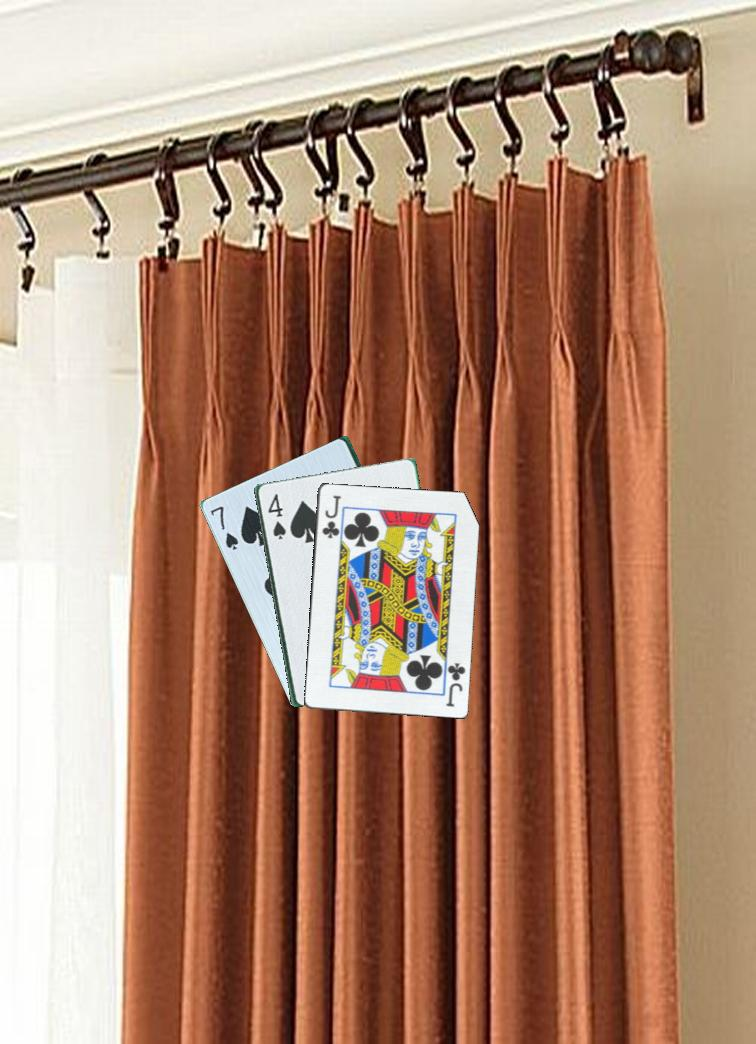4s: (264, 490, 288, 542)
7s: (206, 502, 241, 553)
jc: (442, 659, 468, 709), (318, 491, 343, 541)
